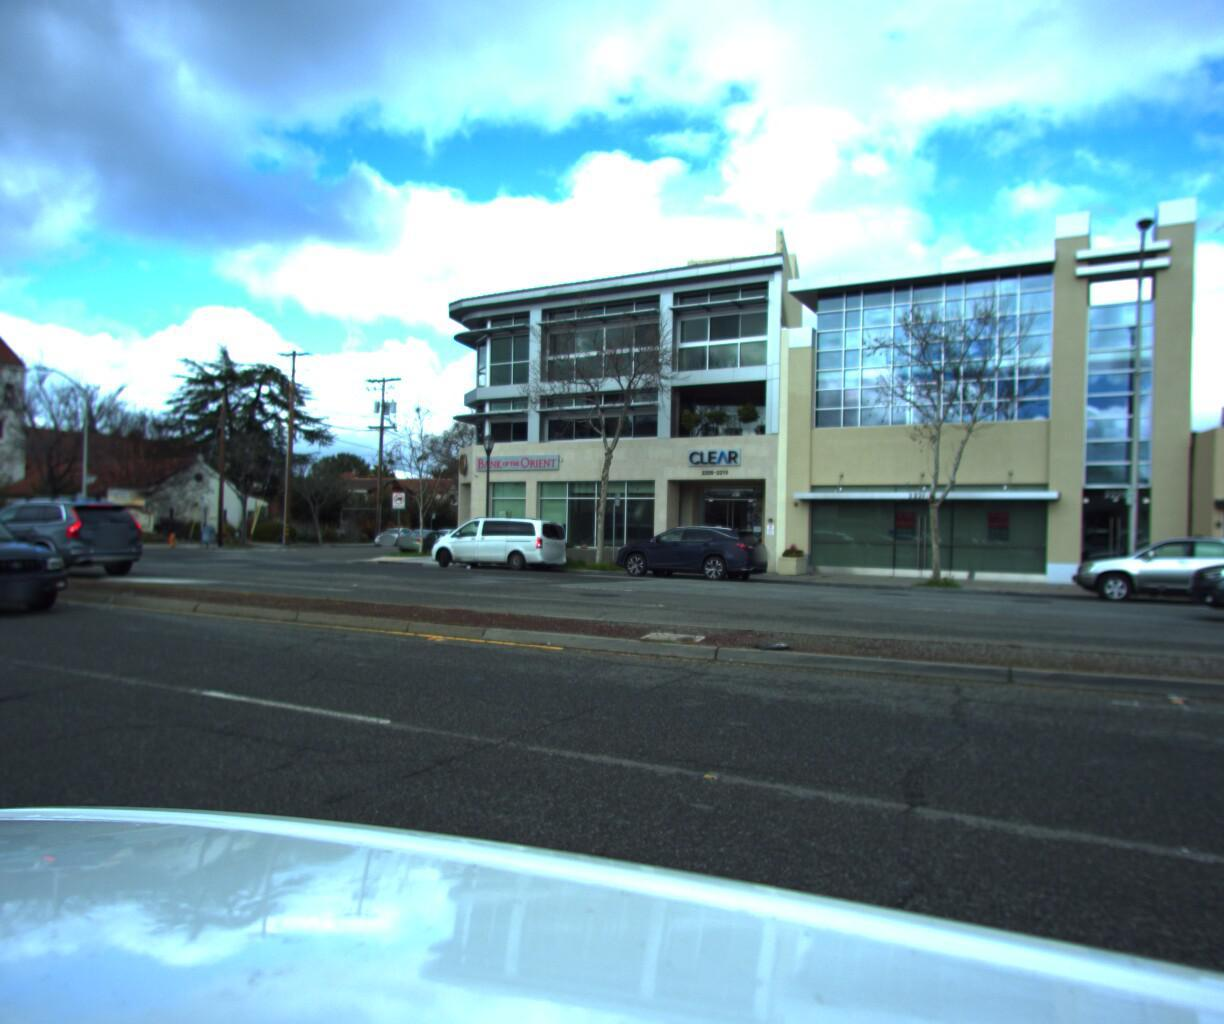car: (0, 489, 159, 583), (1059, 527, 1224, 611), (0, 483, 96, 620), (599, 516, 775, 581), (417, 509, 572, 569), (1182, 517, 1224, 640), (390, 523, 460, 553), (371, 521, 420, 542)
